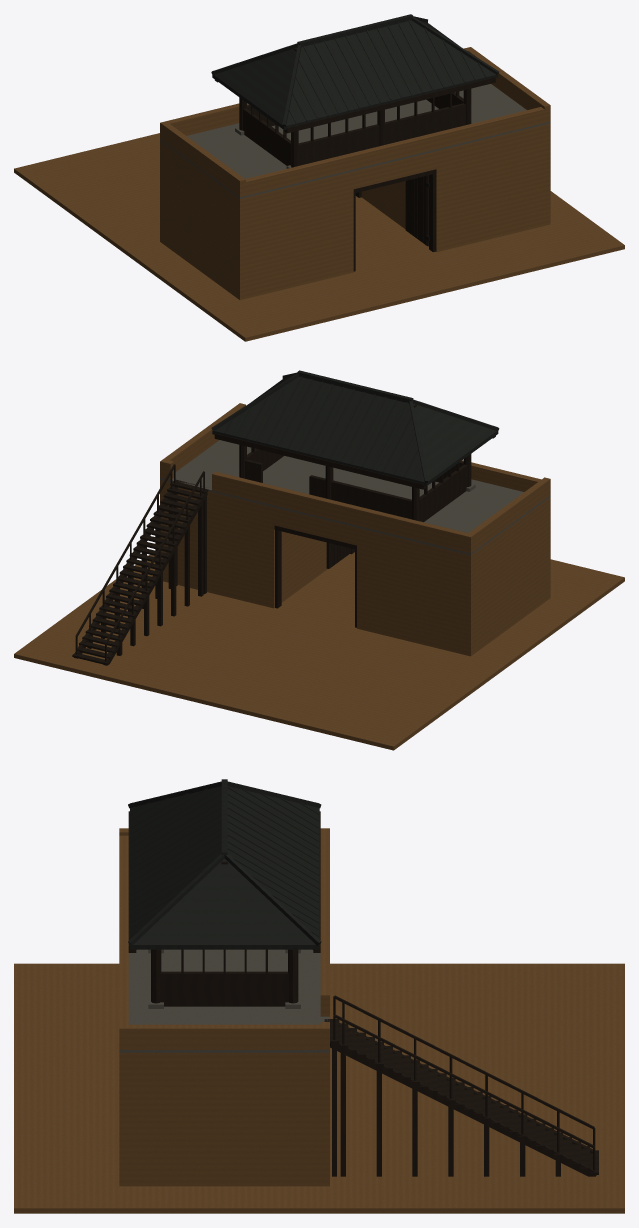
Rendered from xiaoyuan-LOD1.glb.
The picture shows the model from 3 angles, top to bottom: view 1: azimuth 30°, elevation 25°; view 2: azimuth 150°, elevation 25°; view 3: azimuth 270°, elevation 25°; orthographic projection. The views are drawn at different scales.
Parts seen in each view (by area): view 1: BATCH_LY_P01_earth__TEX128, BATCH_LY_P01_tile__TEX128, BATCH_LY_P01_timber__TEX128, BATCH_LY_P01_stone__TEX128; view 2: BATCH_LY_P01_earth__TEX128, BATCH_LY_P01_timber__TEX128, BATCH_LY_P01_tile__TEX128, BATCH_LY_P01_stone__TEX128; view 3: BATCH_LY_P01_earth__TEX128, BATCH_LY_P01_tile__TEX128, BATCH_LY_P01_timber__TEX128, BATCH_LY_P01_stone__TEX128.
Boxes of the visible parts, <box> form: BATCH_LY_P01_earth__TEX128: <box>14,47,624,341</box>; BATCH_LY_P01_tile__TEX128: <box>211,14,499,129</box>; BATCH_LY_P01_timber__TEX128: <box>214,48,495,271</box>; BATCH_LY_P01_stone__TEX128: <box>160,84,550,198</box>; BATCH_LY_P01_earth__TEX128: <box>14,403,624,750</box>; BATCH_LY_P01_timber__TEX128: <box>72,404,495,665</box>; BATCH_LY_P01_tile__TEX128: <box>211,370,499,486</box>; BATCH_LY_P01_stone__TEX128: <box>160,440,550,555</box>; BATCH_LY_P01_earth__TEX128: <box>14,828,624,1213</box>; BATCH_LY_P01_tile__TEX128: <box>128,779,321,949</box>; BATCH_LY_P01_timber__TEX128: <box>128,811,598,1176</box>; BATCH_LY_P01_stone__TEX128: <box>119,949,329,1052</box>.
Size of the model in its own units: 22 by 11.53 by 23.2.
Materials: 5 (5 with a texture image).
